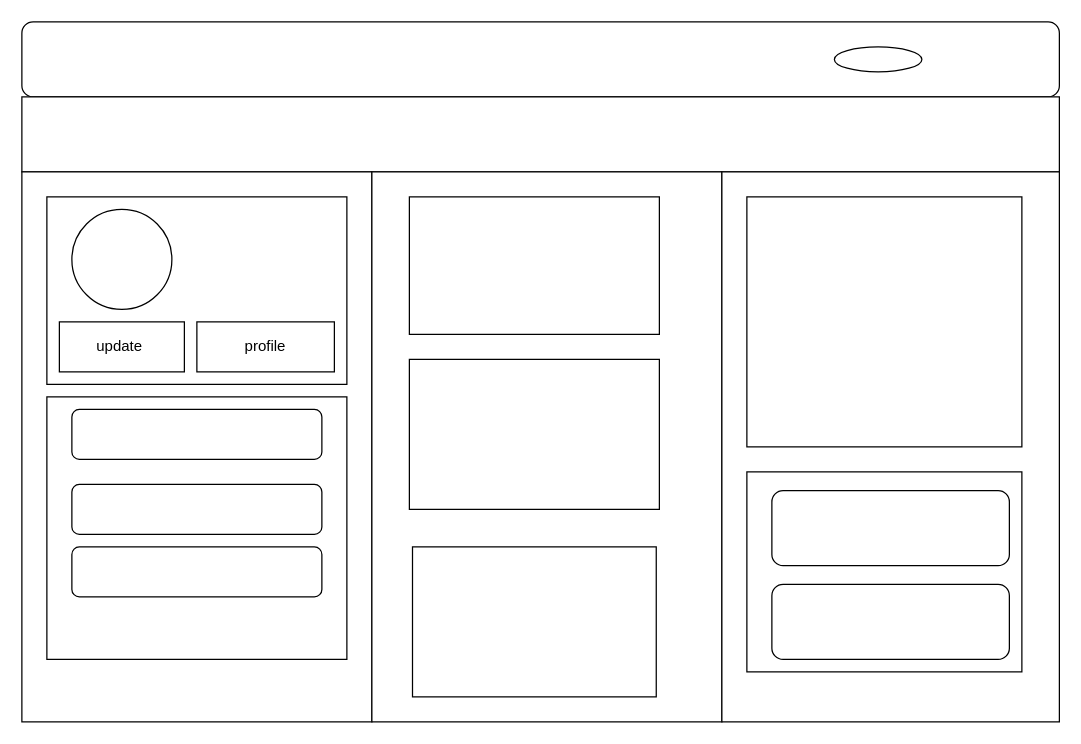
Image size: 1081x744. Some labels were removed from this diagram. Here are the shapes that lost their labels. From the top down, the box of each, then its label:
(21, 21, 1059, 97): NAVbar i
(21, 96, 1059, 172): navbar2
